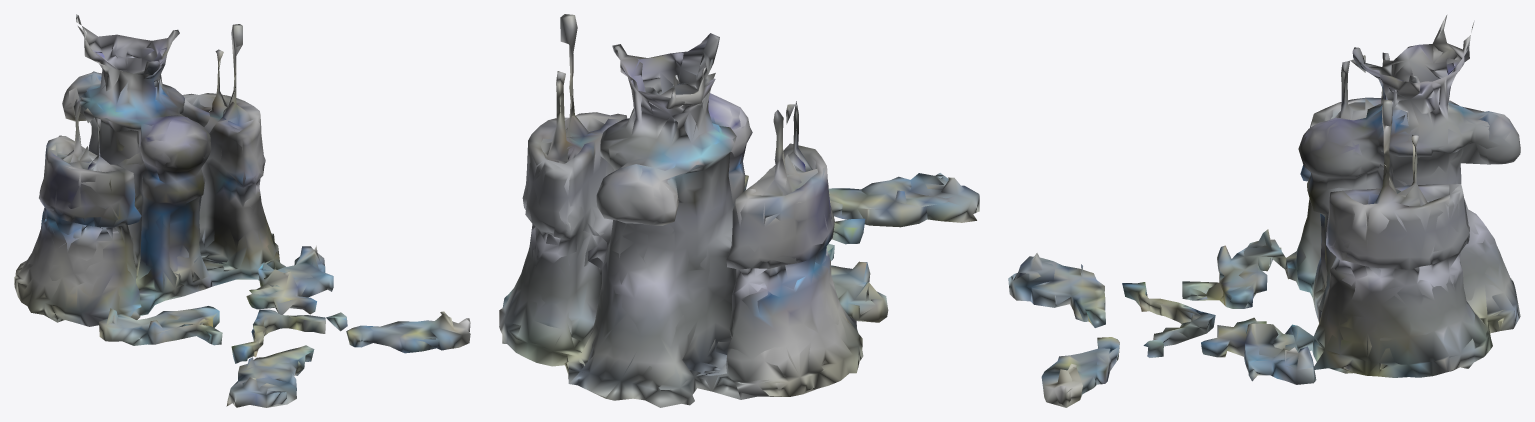
File: allied_airforce_command.glb
The picture shows the model from 3 angles, left to right: view 1: azimuth 30°, elevation 25°; view 2: azimuth 150°, elevation 25°; view 3: azimuth 270°, elevation 25°; orthographic projection. The views are drawn at different scales.
Visible parts, largest first — view 1: allied_airforce_command; view 2: allied_airforce_command; view 3: allied_airforce_command.
Boxes of the visible parts, x1=… form: allied_airforce_command: x1=14, y1=14, x2=470, y2=407; allied_airforce_command: x1=499, y1=14, x2=979, y2=407; allied_airforce_command: x1=1008, y1=15, x2=1520, y2=407.
Bounding box in the file's own units: 1.69 × 1.3 × 2.19.
